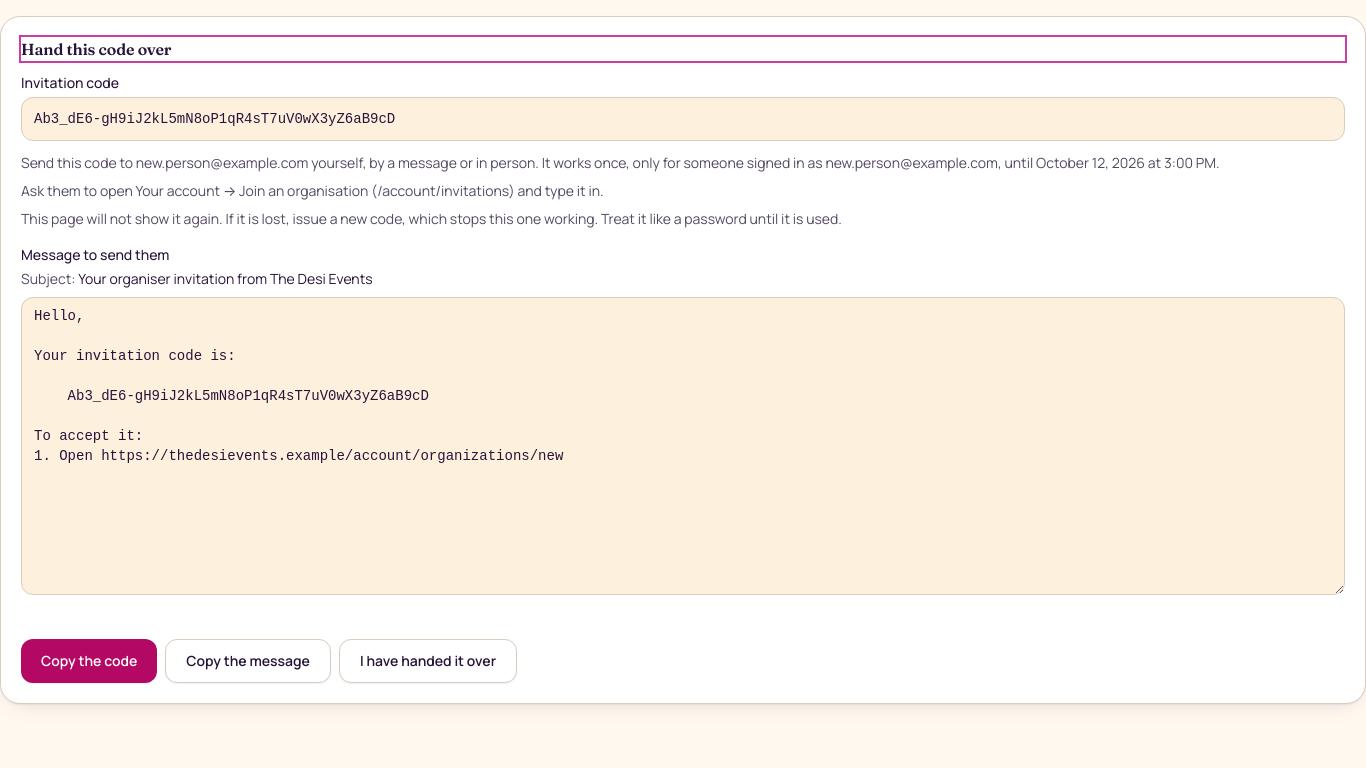
Scenario: the ready-to-send message › selects the message when the browser refuses to copy it
Step 1. Click the button "Copy the message" → coordinates (248, 661), box [165, 639, 331, 683]
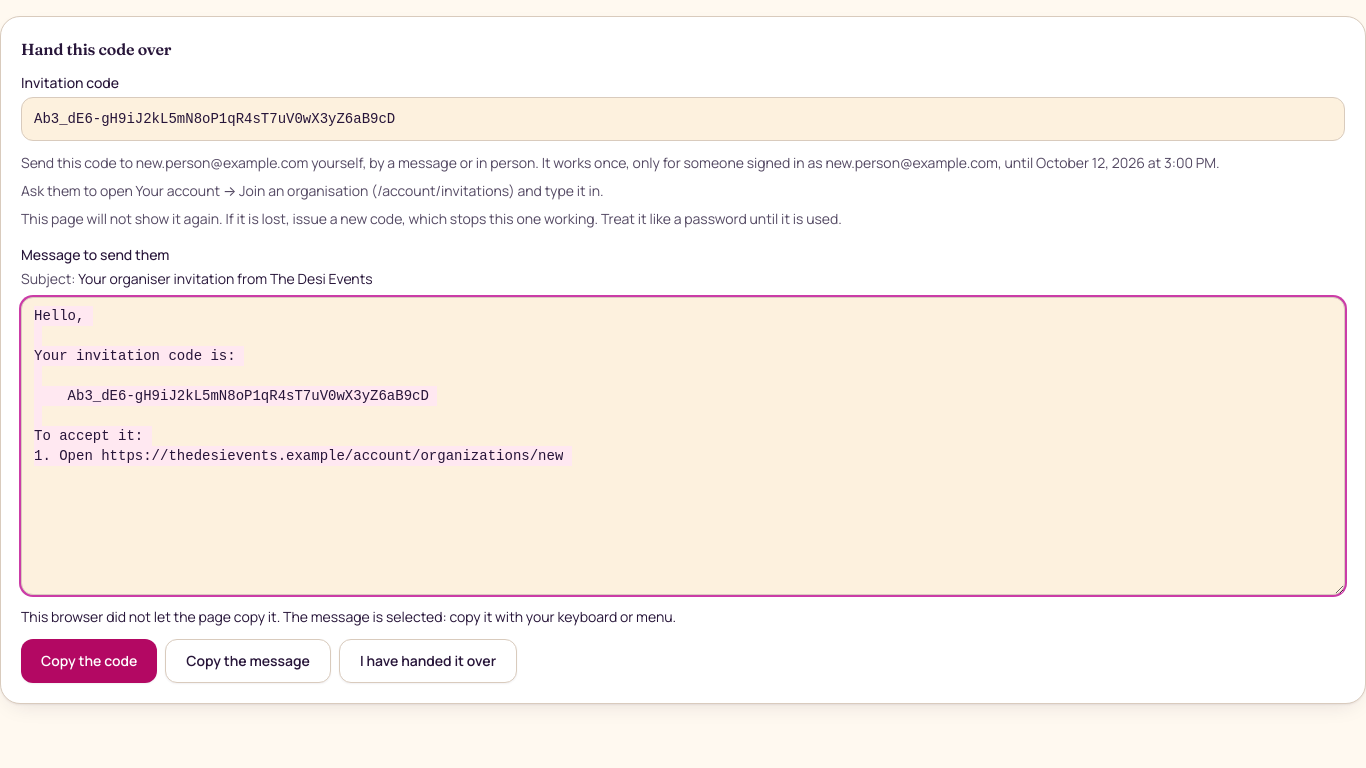
Now the text "The message is selected" is shown, box [21, 607, 676, 626]
